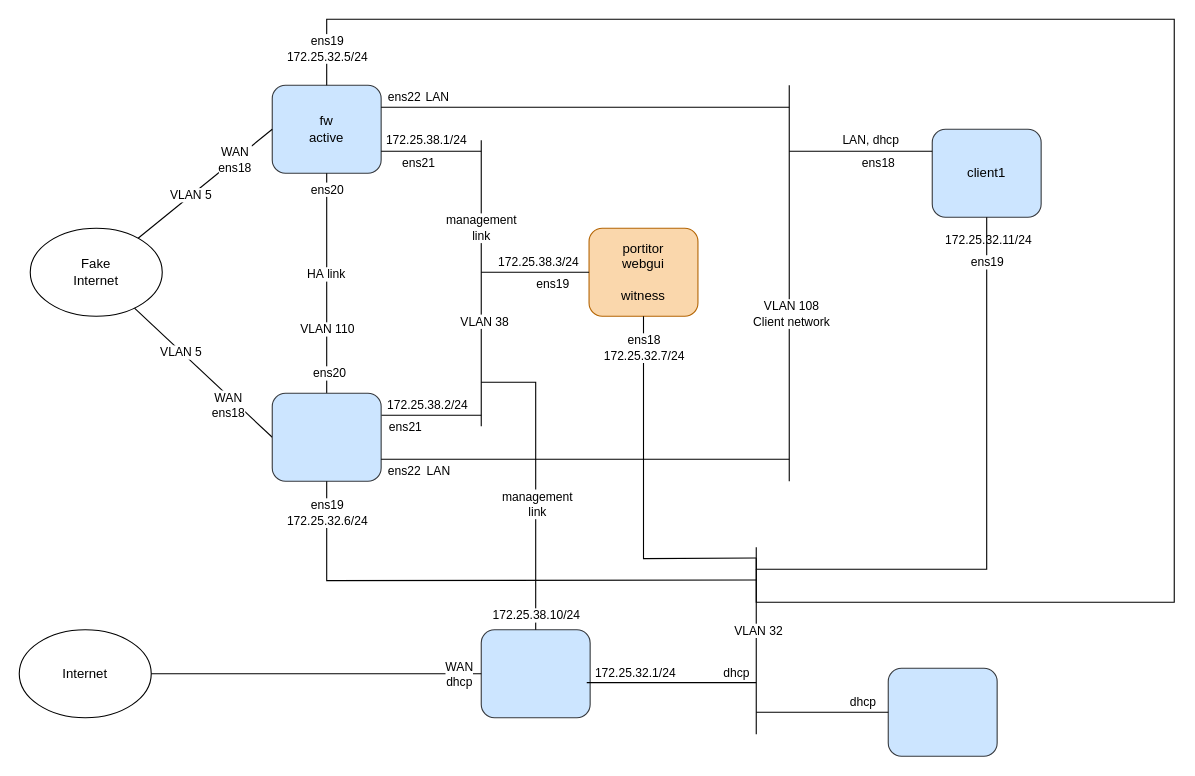
Image size: 1195x776. Some labels were removed from this diagram. Each missing label, with the centre of its shape:
"Development machine" belongs at pixel 942 711.
"fw standby" belongs at pixel 326 436.
"production firewall" belongs at pixel 535 673.
